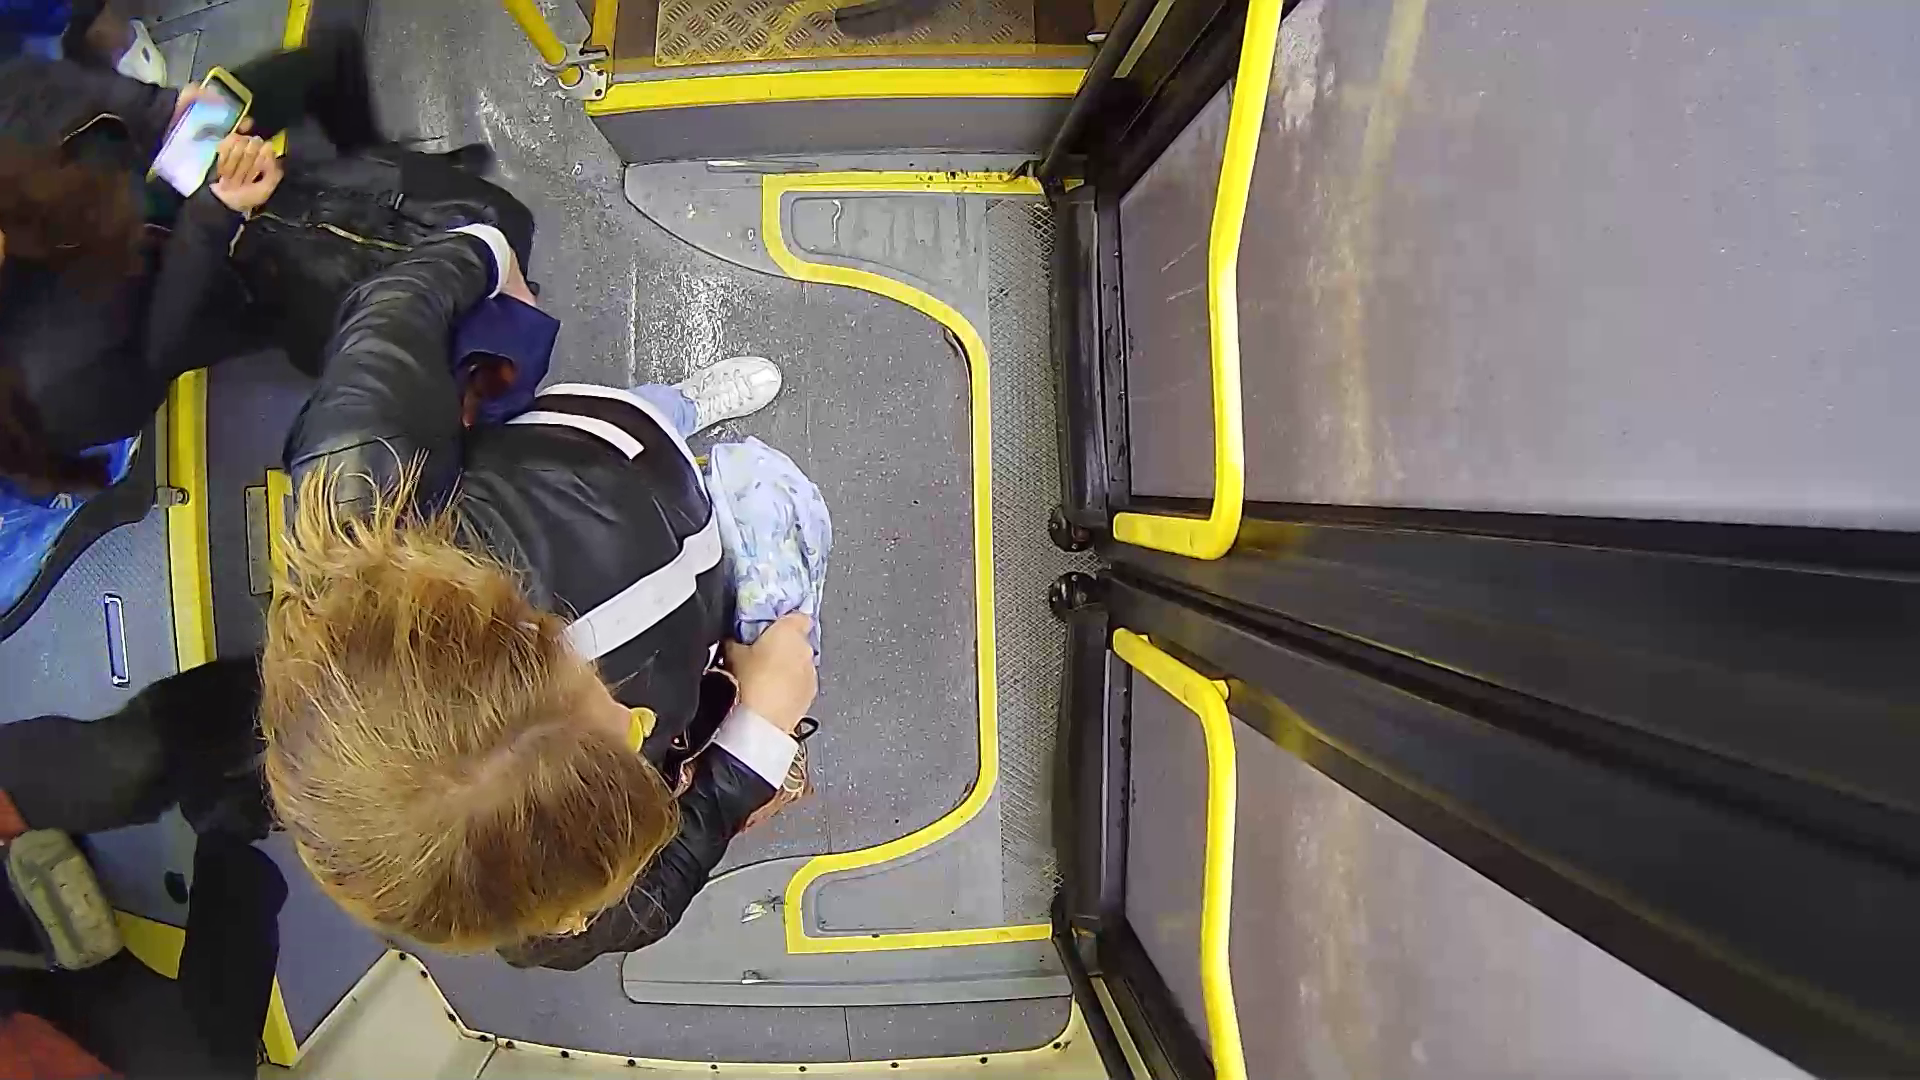person: (148, 164, 959, 955)
